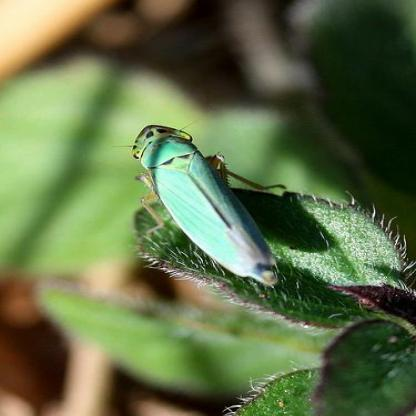Green-Leafhopper: (109, 103, 292, 290)
